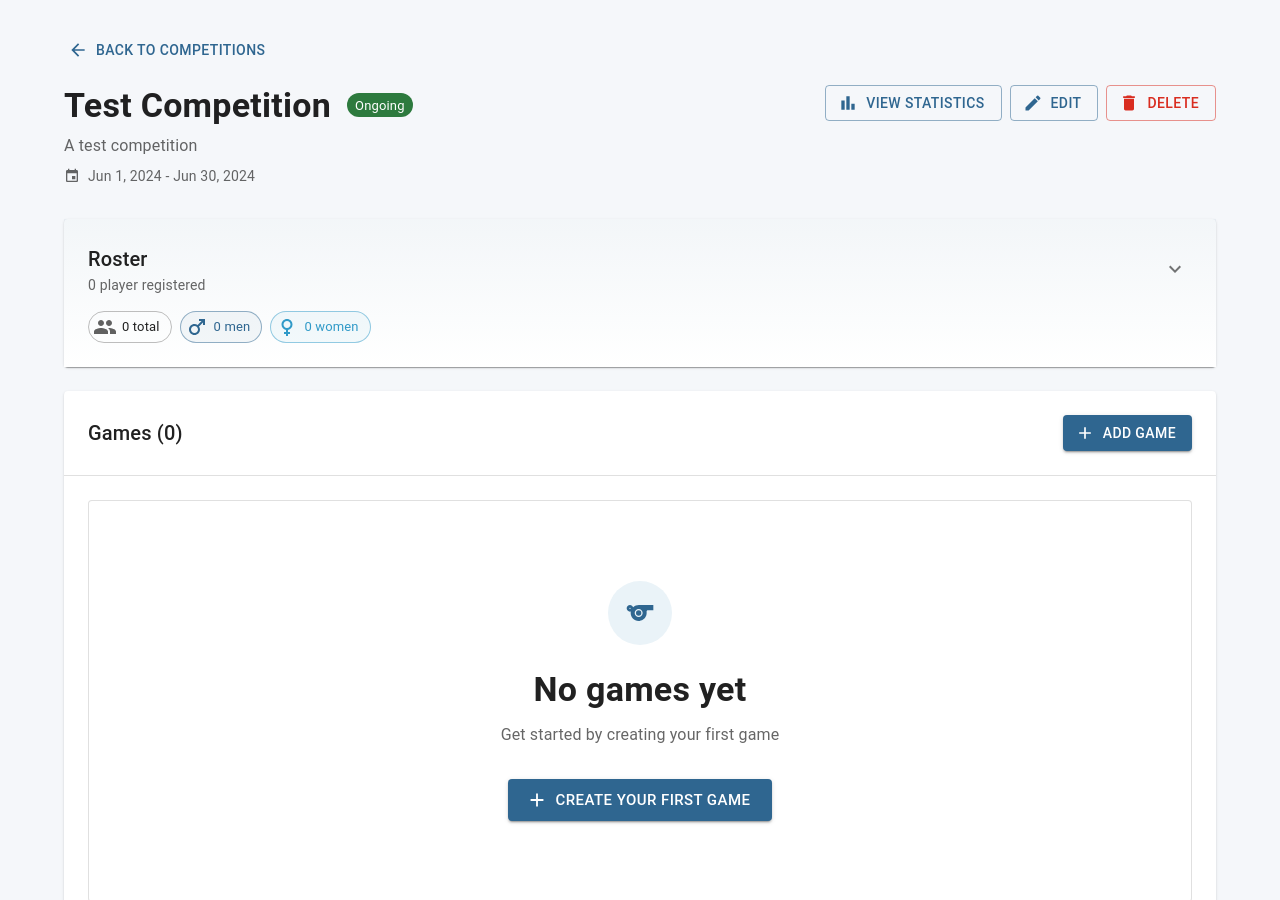
Test: CompetitionDetailPage › shows empty state when roster has no players
The image size is (1280, 900).
Expected: the heading "Test Competition" is shown, [64,84,331,126]
Click the button named "show roster" at [1175, 268], box [1158,252,1192,286]
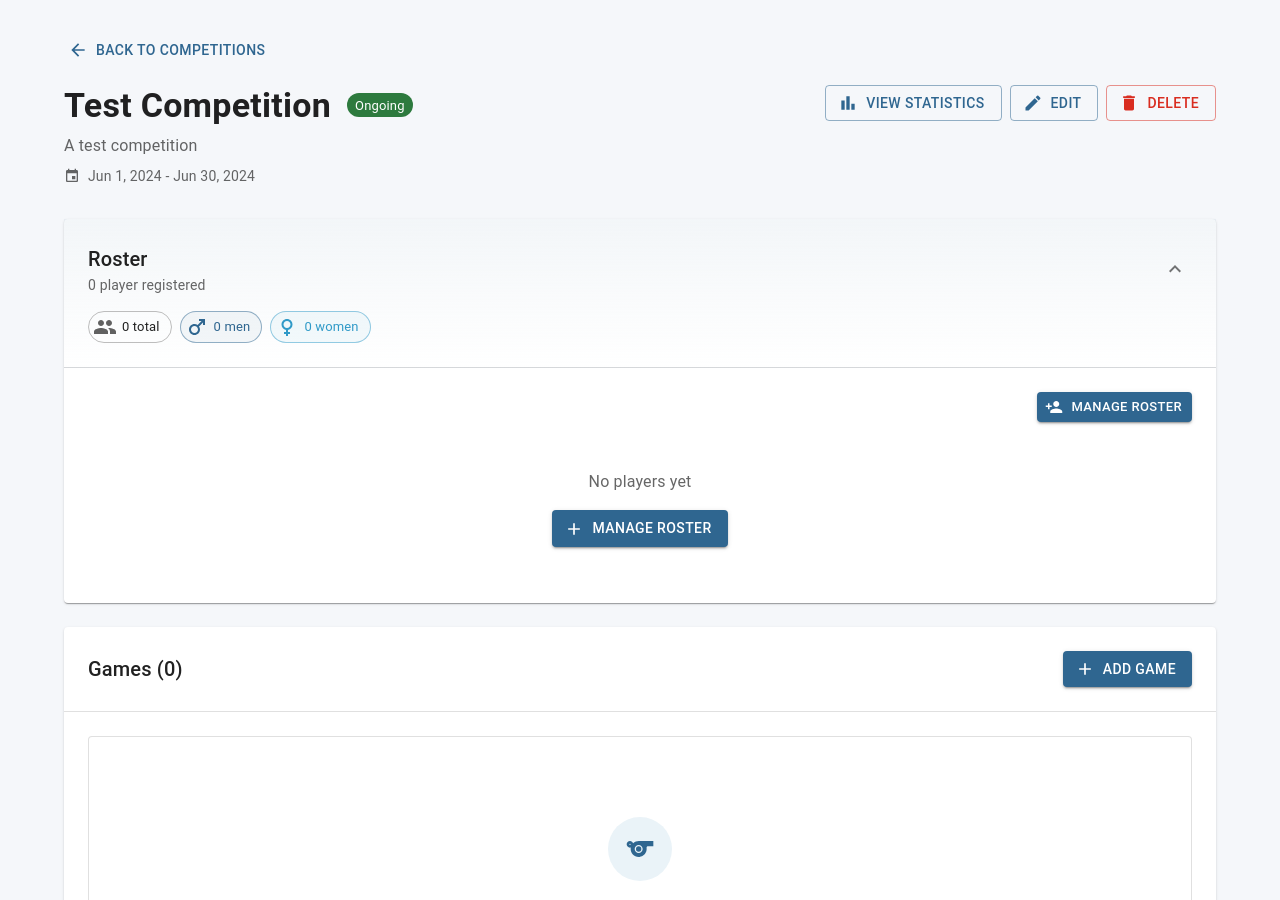
Expected: the text "0 player registered" is shown, [88,274,206,294]
Expected: the text "No players yet" is shown, [589,472,692,491]
